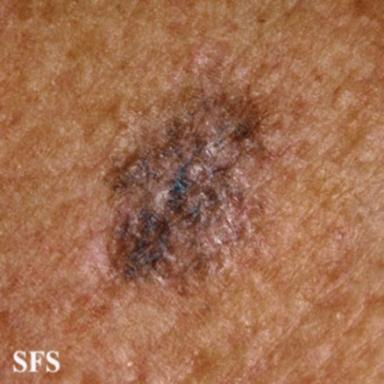Melanoma: (107, 77, 265, 287)
